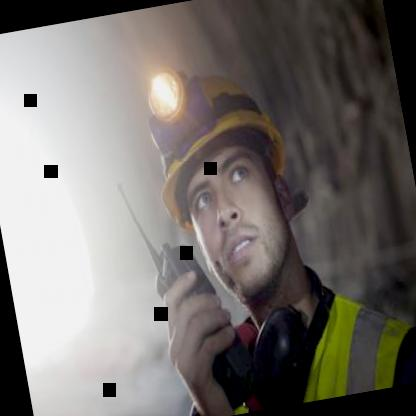helmet: (132, 60, 330, 328)
